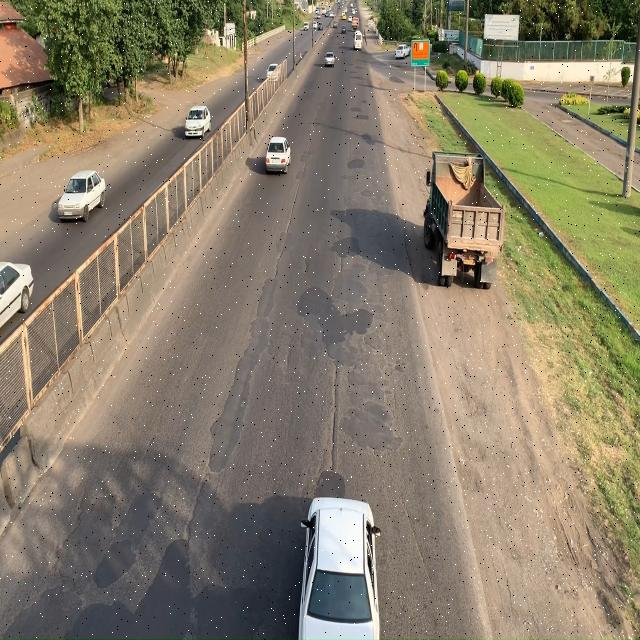Truck: (424, 156, 508, 298)
cars: (294, 485, 382, 640), (57, 168, 107, 227), (0, 257, 33, 336), (261, 133, 292, 175), (184, 105, 212, 139)
